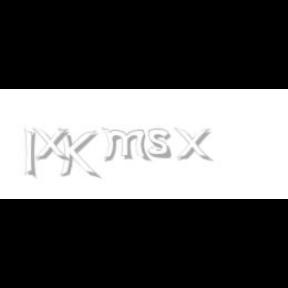K: (58, 128, 98, 180)
l: (24, 128, 40, 180)
m: (100, 128, 152, 162)
s: (148, 128, 176, 160)
x: (32, 128, 74, 162), (174, 128, 216, 162)
